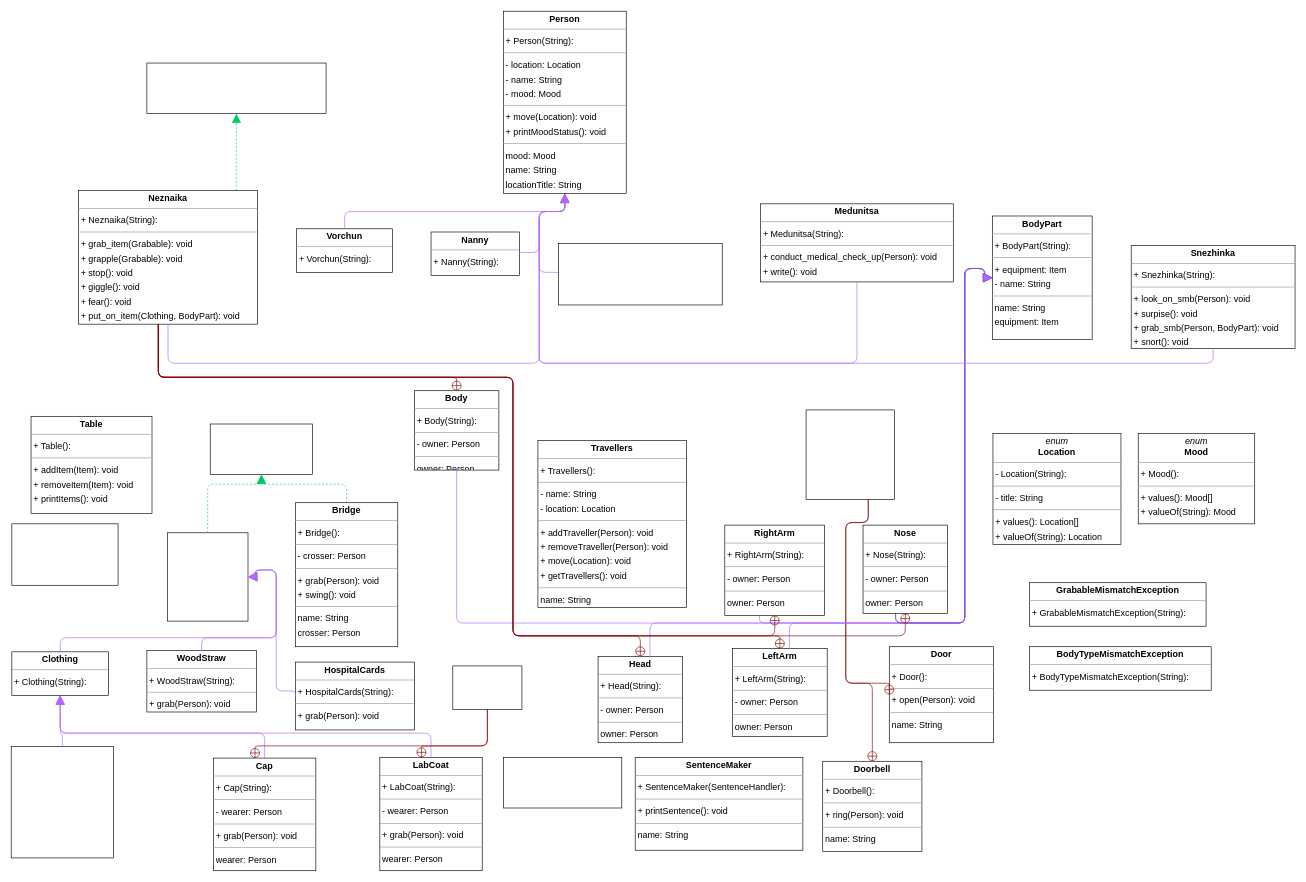
Image size: 1306x882. Some labels were removed from this diagram. Here are the shapes that lost their labels. From the top down, the centre of each, then its label:
At (x=236, y=88): "interface PutOnItem + put_on_item(Clothing, BodyPart): void".
At (x=640, y=274): "Sineglazka + Sineglazka(String): + grab_smb(Person, BodyPart): void".
At (x=261, y=449): "interface Grabable + grab(Person): void".
At (x=849, y=454): "House + House(String): - name: String name: String".
At (x=64, y=554): "Main + Main(): + main(String[]): void".
At (x=207, y=576): "Item + Item(String): - name: String name: String".
At (x=487, y=687): "Hanger + Hanger():".
At (x=62, y=802): "Glasses + Glasses(String): - wearer: Person + grab(Person): void wearer: Person".
At (x=562, y=782): "interface SentenceHandler + sentenceOut(): void".
